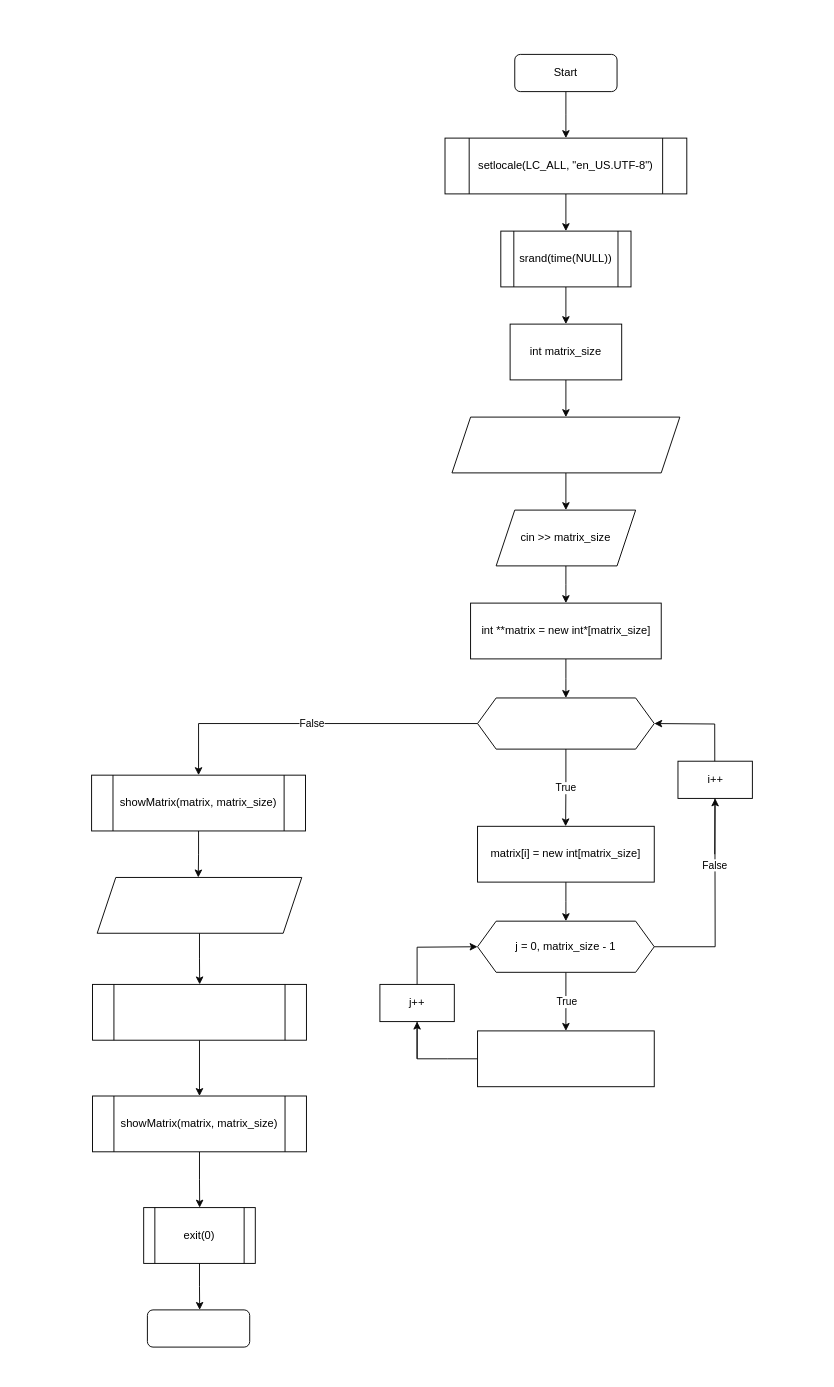
The diagram is 834 pixels wide and 1387 high, and some of its shapes have lost their labels. Each missing label, with the centre of its shape:
arrayUnique(matrix, matrix_size): (x=199, y=1011)
cout << "\nNew martrix:\n\n": (x=199, y=905)
cout << "Enter the size of the matrix": (x=565, y=444)
End: (x=198, y=1328)
i = 0, matrix_size - 1: (x=565, y=723)
matrix[i][j] = rand() % 20: (x=565, y=1058)
